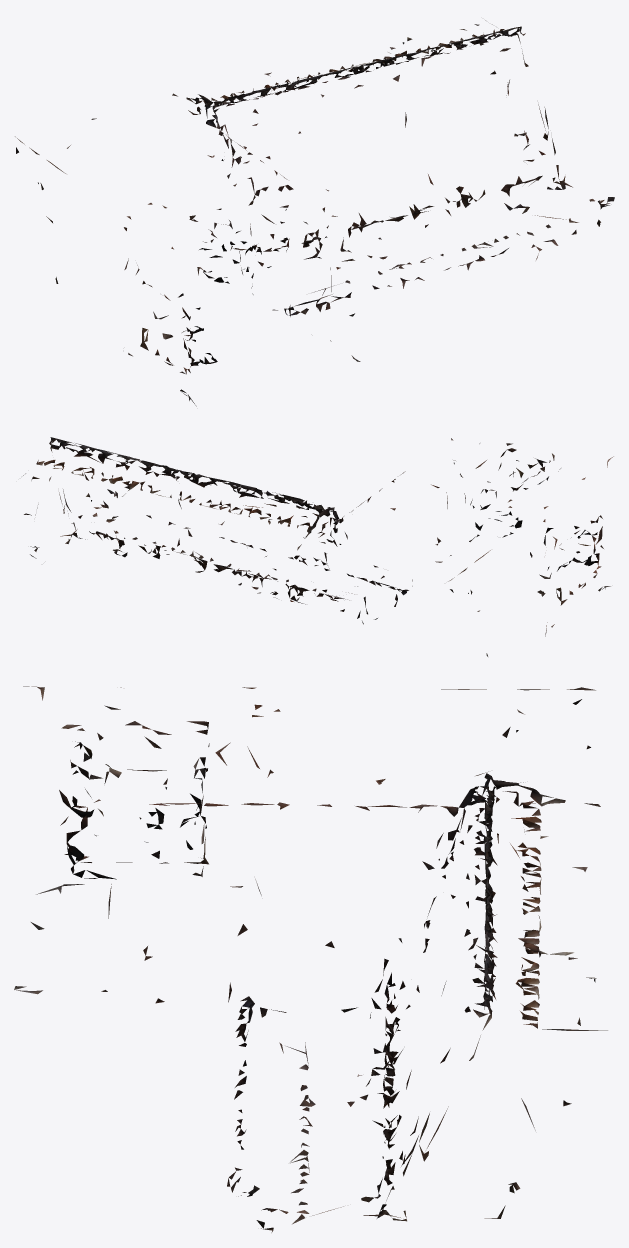
3 renders of one model, top to bottom at view 1: azimuth 30°, elevation 25°; view 2: azimuth 150°, elevation 25°; view 3: azimuth 270°, elevation 25°, orthographic. The views are drawn at different scales.
Bounding box in the file's own units: 12.3 × 3.83 × 8.58.
1 material, 1 textured.
